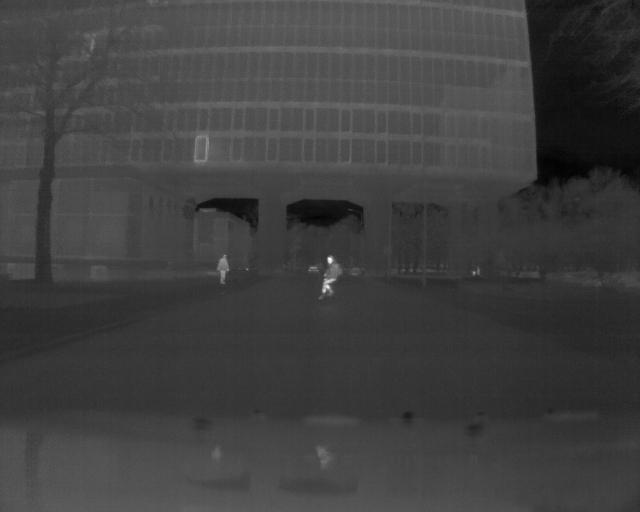person: (322, 254, 341, 307), (218, 251, 230, 291)
